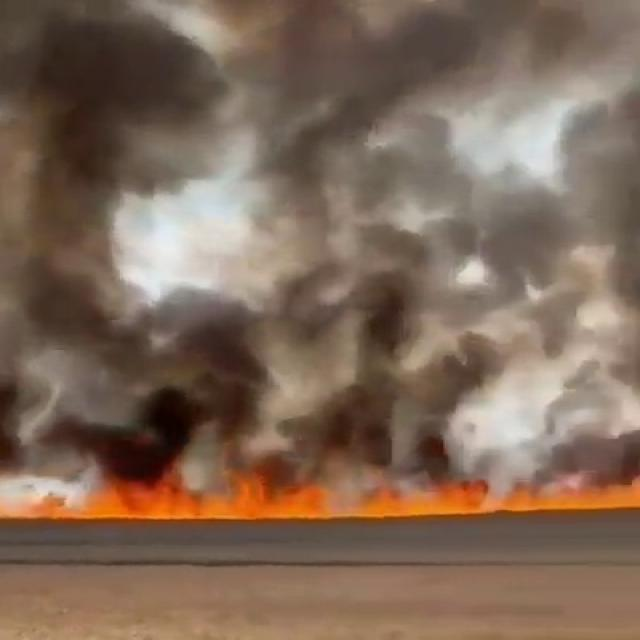Fire: (90, 486, 640, 521)
Smoke: (22, 19, 226, 476), (258, 105, 462, 408)
